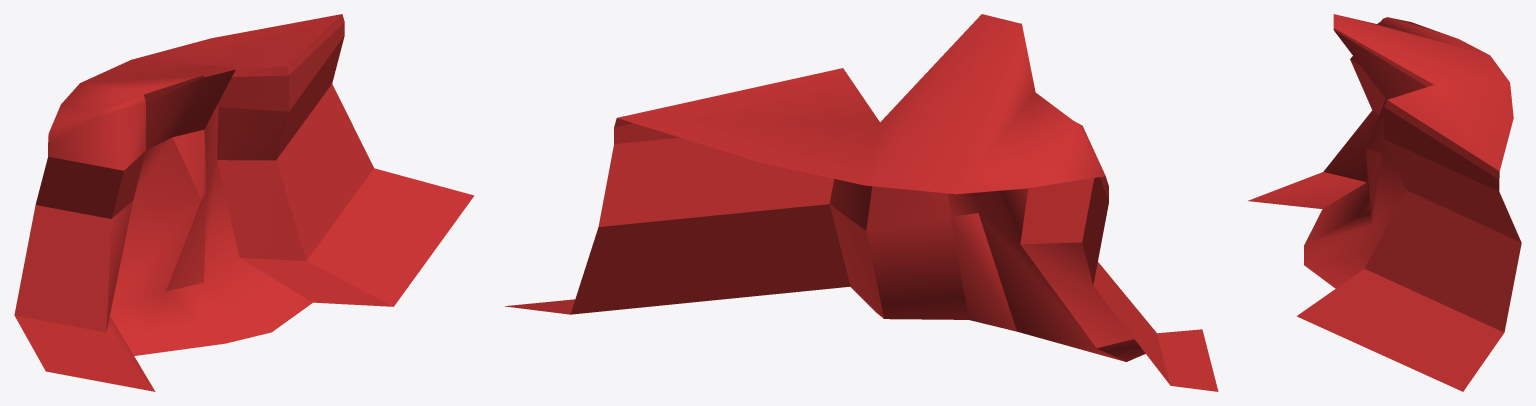
File: Canyon_E.fbx
3 views of the same model, side by side, from view 1: azimuth 30°, elevation 25°; view 2: azimuth 150°, elevation 25°; view 3: azimuth 270°, elevation 25° (orthographic). The views are drawn at different scales.
Parts seen in each view (by area): view 1: Canyon_E; view 2: Canyon_E; view 3: Canyon_E.
Boxes of the visible parts, left/top/right/bottom form: Canyon_E: left=14, top=14, right=474, bottom=391; Canyon_E: left=505, top=14, right=1218, bottom=391; Canyon_E: left=1248, top=14, right=1521, bottom=391.
Size of the model in its own units: 11804 by 5793 by 6294.
